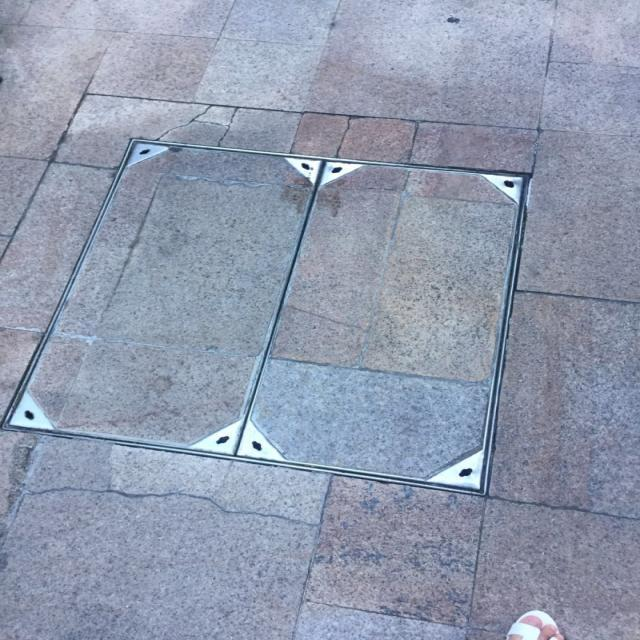manhole: (4, 140, 528, 493)
